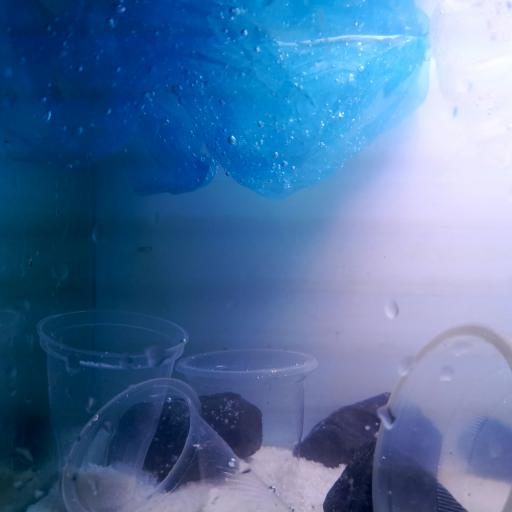plastic_bag: (2, 0, 431, 202)
plastic_cup: (59, 376, 295, 512), (36, 307, 189, 505), (371, 321, 512, 512), (176, 346, 320, 512)
